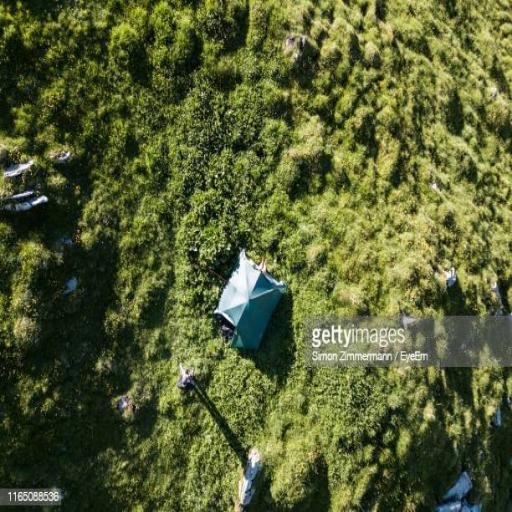Tent: (215, 250, 282, 356)
